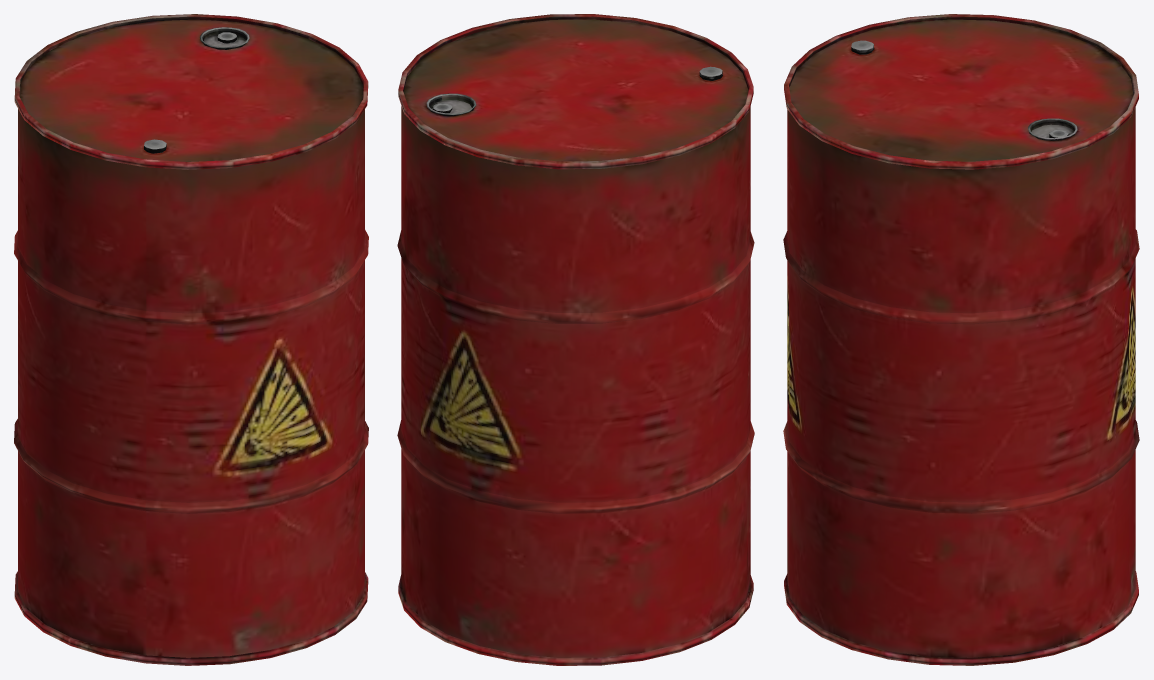
The model's file is Barrel_01.glb.
The picture shows the model from 3 angles, left to right: view 1: azimuth 30°, elevation 25°; view 2: azimuth 150°, elevation 25°; view 3: azimuth 270°, elevation 25°; orthographic projection.
Visible parts, largest first — view 1: Barrel_01; view 2: Barrel_01; view 3: Barrel_01.
Boxes of the visible parts, left/top/right/bottom form: Barrel_01: left=14, top=14, right=368, bottom=665; Barrel_01: left=397, top=14, right=754, bottom=665; Barrel_01: left=783, top=14, right=1139, bottom=665.
Size of the model in its own units: 0.5627 by 0.88 by 0.5627.
1 material, 1 textured.
